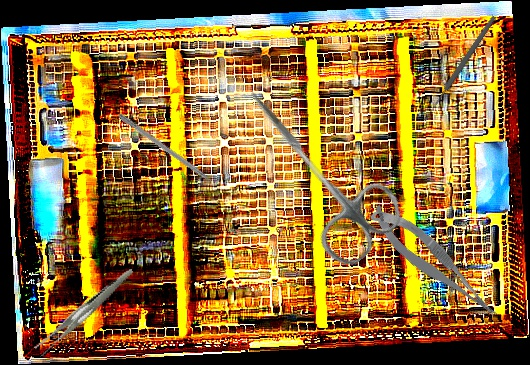Dressing Forceps: (20, 268, 150, 358)
Iris Scissors: (214, 64, 414, 275)
Micro Scissor: (364, 193, 504, 335)
Pusher: (116, 112, 227, 195)
Surgical Spoon: (421, 14, 498, 123)
